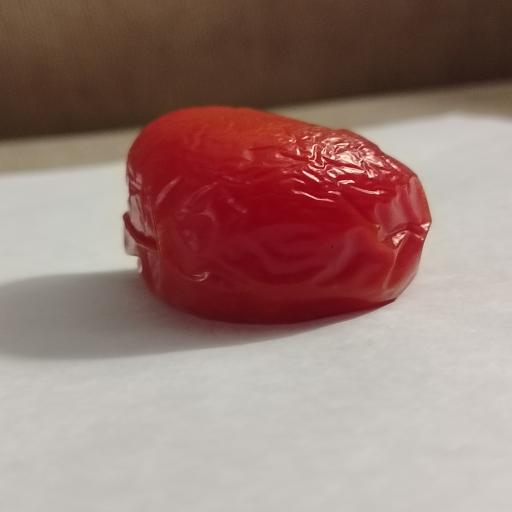spoiled: (124, 107, 430, 323)
